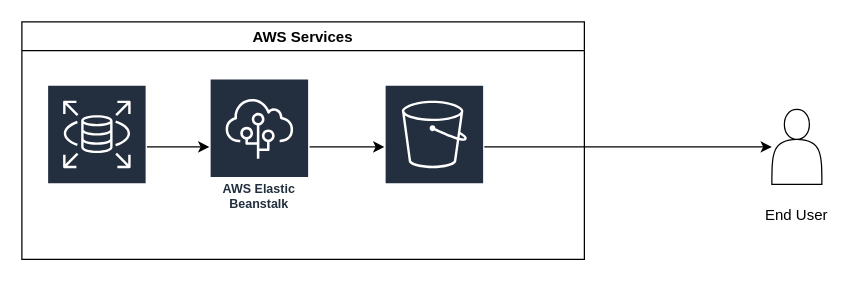
Some shapes in this 856 by 281 pixel diagram are drawn without their labels. The shapes that lost their labels are listed below. From the top down, each one's centre as x and y in pixels, then its label:
At point 96,146: "Amazon RDS".
At point 433,146: "Amazon S3".
